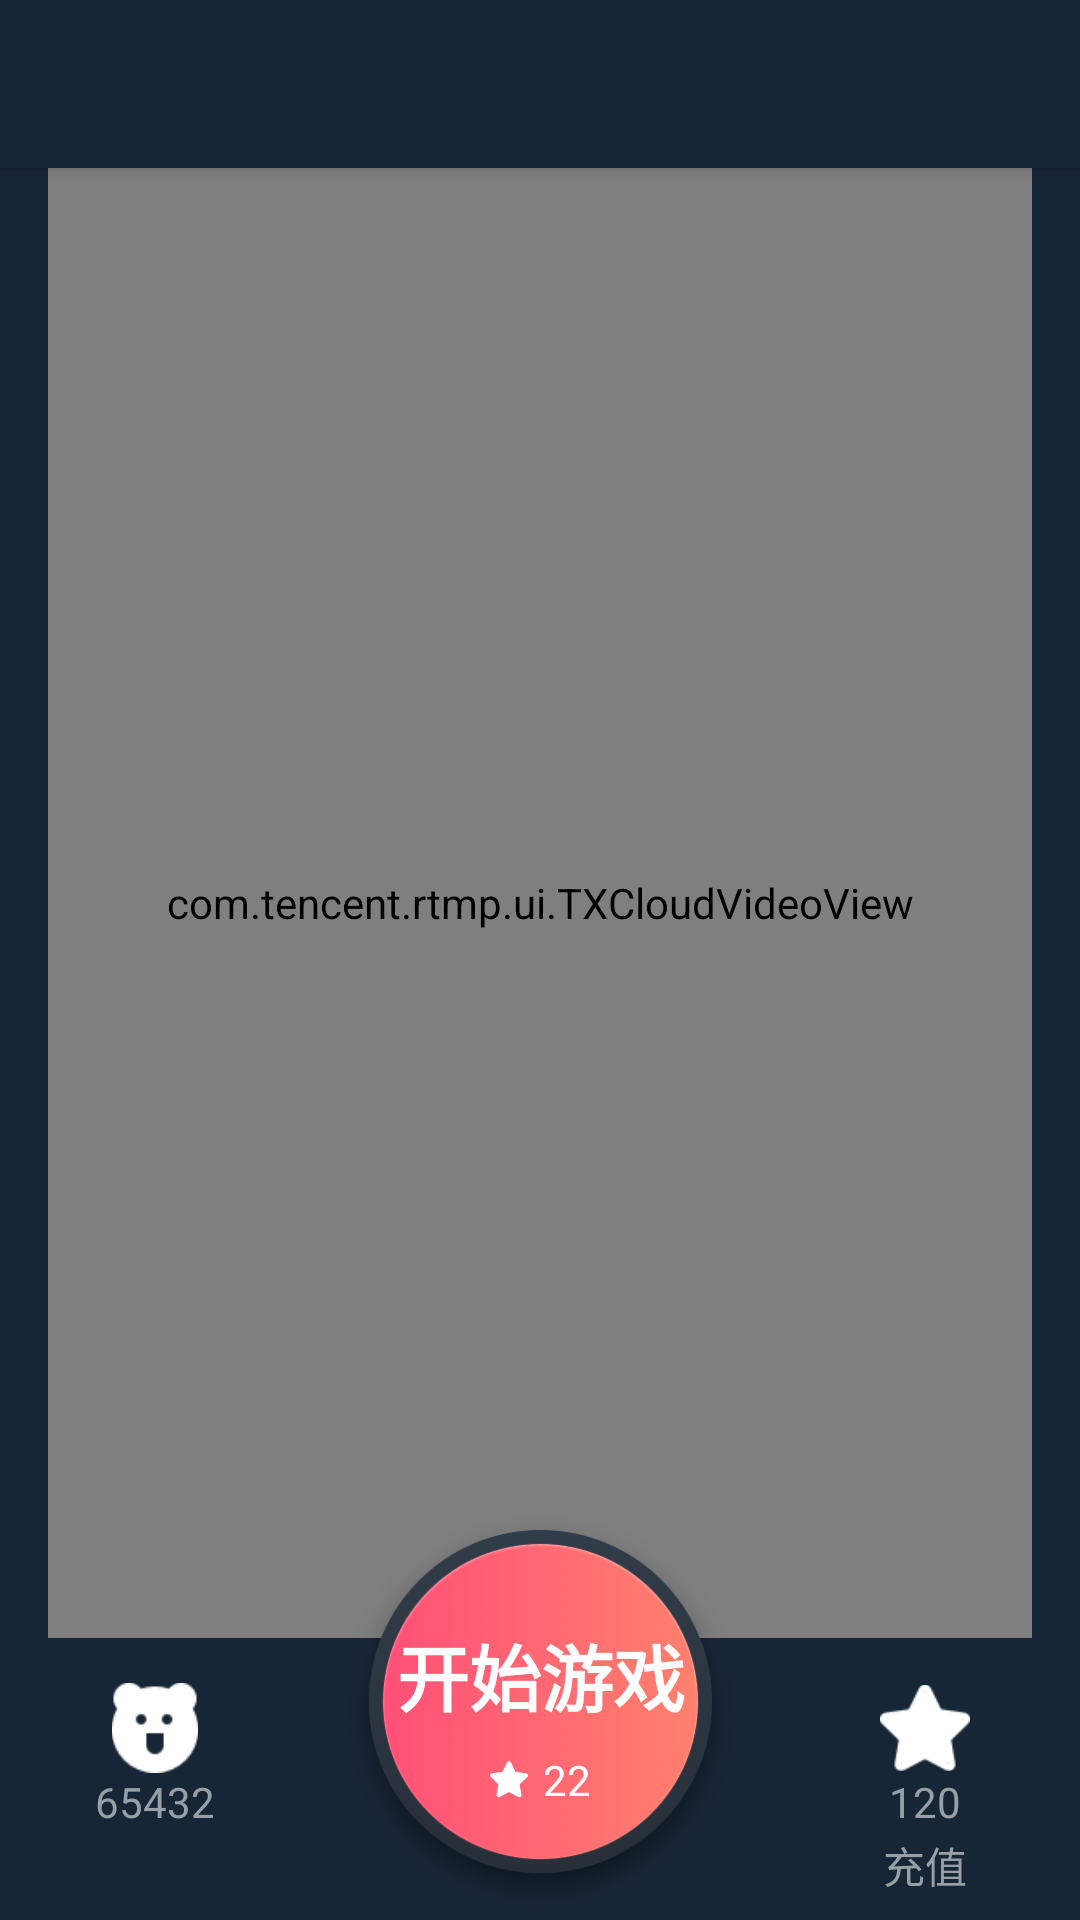

Screen size 1080 x 1920. Icon name, then its box in pixels as (x1, y1, x2, y2):
star: (880, 1685, 970, 1771)
